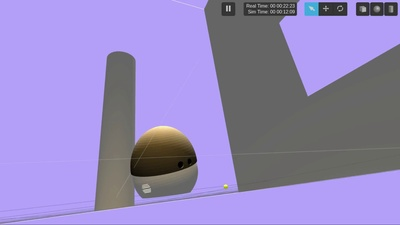mira_robot: (131, 125, 198, 199)
